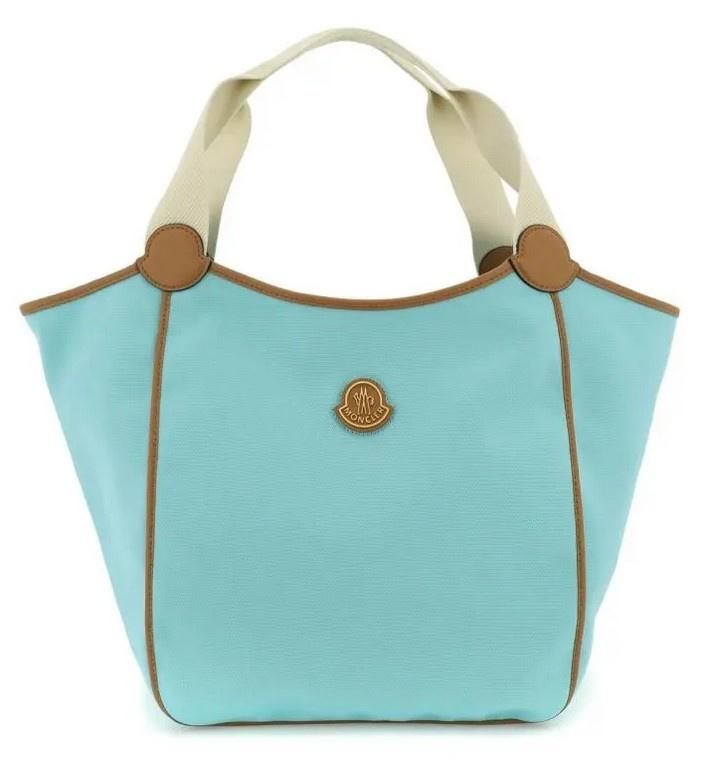MONCLER: (333, 377, 394, 433)
